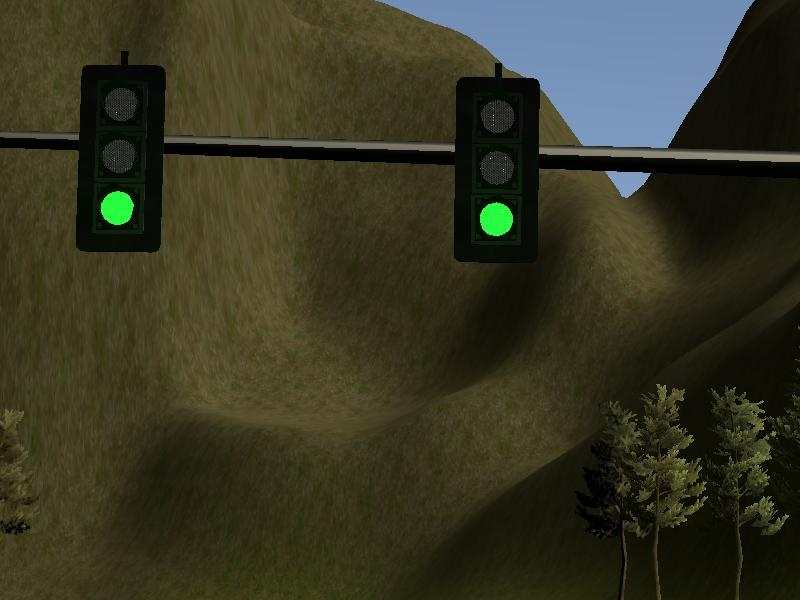GREEN: (75, 59, 168, 258), (453, 73, 545, 267)
